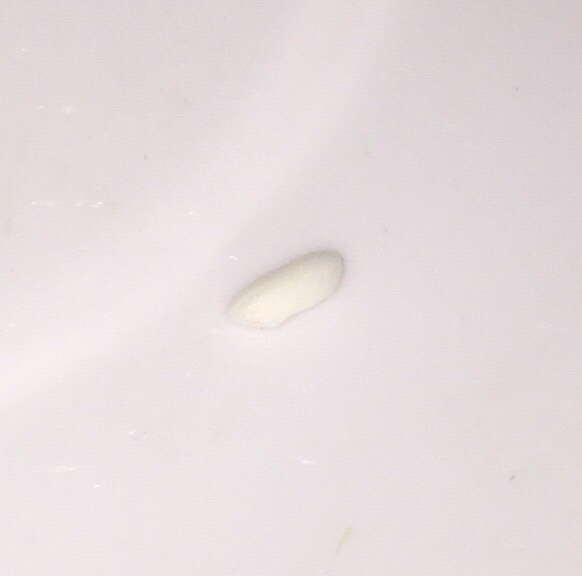Gao Nep Sap: (225, 238, 341, 331)
